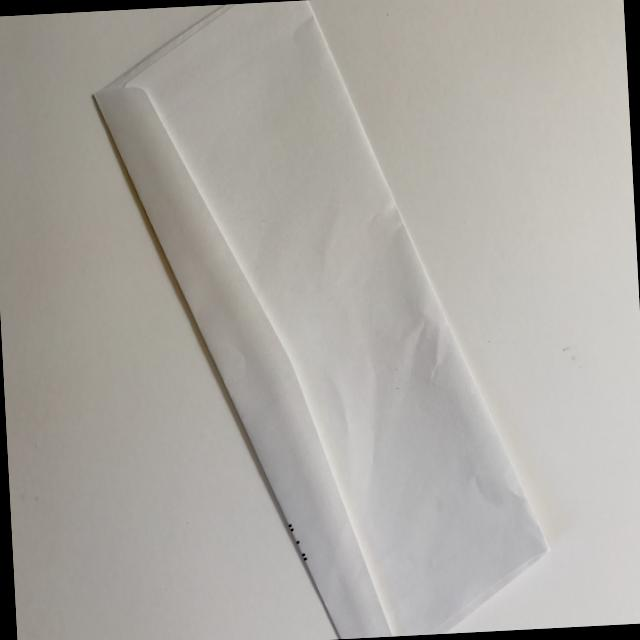Paper: (89, 0, 558, 640)
